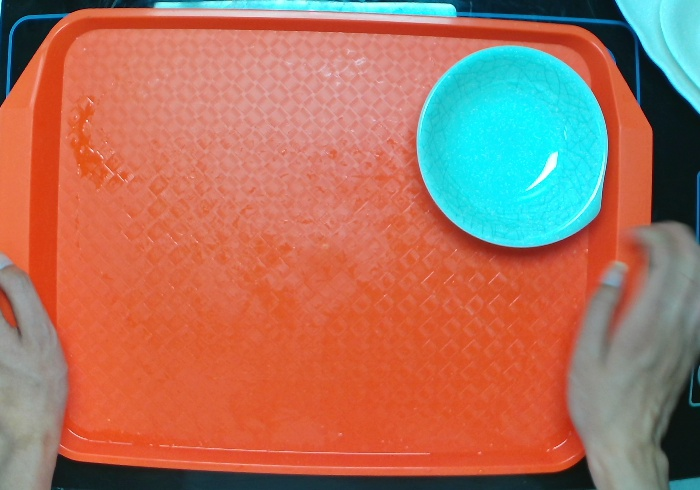RJxy-Xiao_Jiao_Yuan_Wan: (405, 38, 625, 254)
